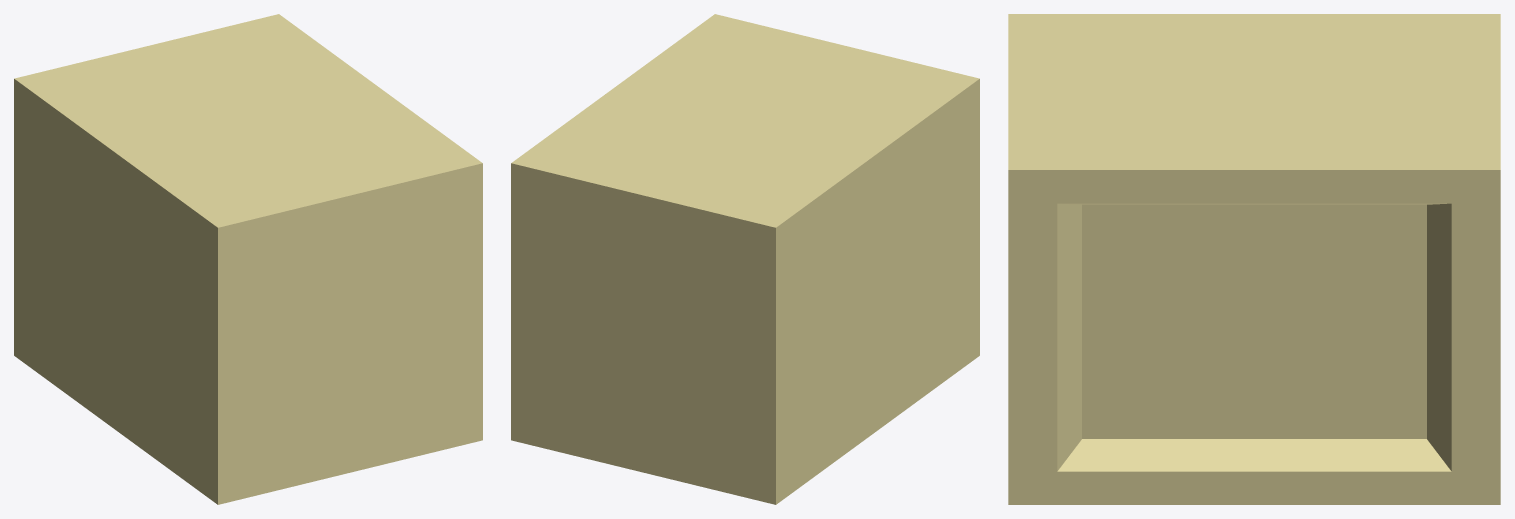
File: crt.glb
3 renders of one model, left to right at view 1: azimuth 30°, elevation 25°; view 2: azimuth 150°, elevation 25°; view 3: azimuth 270°, elevation 25°, orthographic. The views are drawn at different scales.
Visible parts, largest first — view 1: Cube; view 2: Cube; view 3: Cube.
Boxes of the visible parts, x1,y1,x2,y2 form: Cube: (14,14,482,504); Cube: (511,14,979,504); Cube: (1008,14,1500,504).
Bounding box in the file's own units: 1.2 × 1.2 × 1.6.
